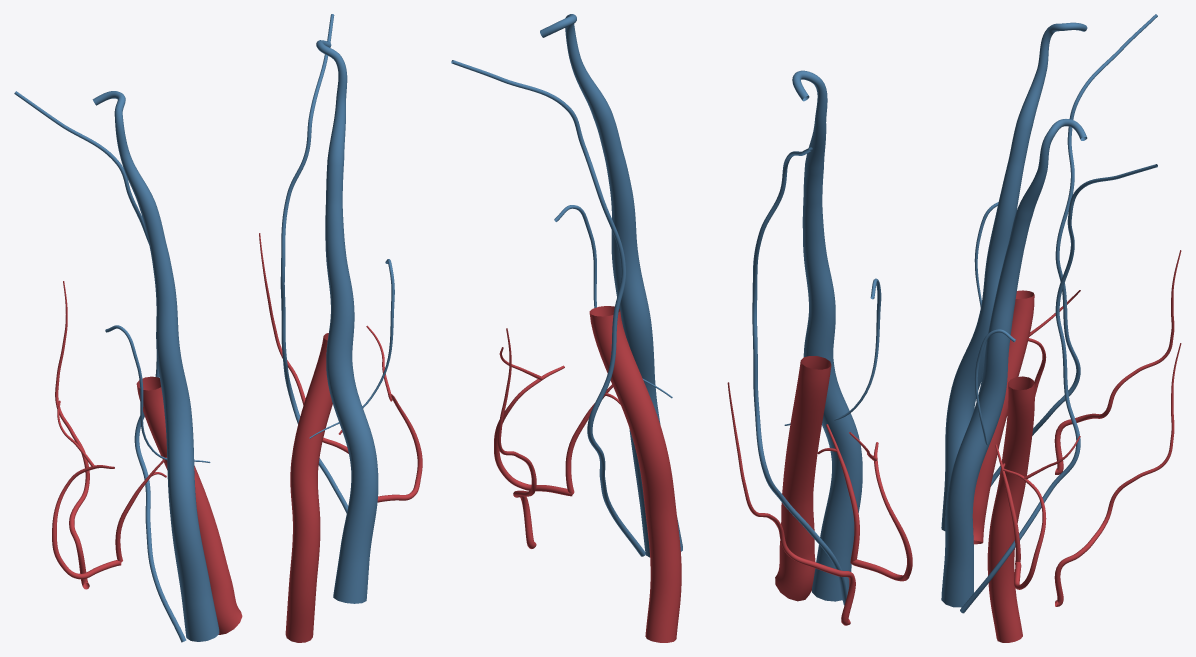
Rendered from detail-circulatory-neck.glb.
3 renders of one model, left to right at view 1: azimuth 30°, elevation 25°; view 2: azimuth 150°, elevation 25°; view 3: azimuth 270°, elevation 25°, orthographic. The views are drawn at different scales.
Parts seen in each view (by area): view 1: za-78b3e35a4bfca581, za-c72c39d42f9e847f, za-fb939154a41782c4, za-c81aa8c7691f2b83, za-bf7f14168e64b9d9, za-009cdefda3da7576, za-318a3d450c23855a, za-d6612946eb582314, za-ed29808062135c0d, za-0526ac5f61237d5b, za-d5ff5e6274919cb4, za-e259bb06450c0f42 (+1 smaller); view 2: za-c72c39d42f9e847f, za-fb939154a41782c4, za-78b3e35a4bfca581, za-c81aa8c7691f2b83, za-bf7f14168e64b9d9, za-009cdefda3da7576, za-318a3d450c23855a, za-0526ac5f61237d5b, za-ed29808062135c0d, za-d6612946eb582314, za-996f0717f2090e4a, za-e259bb06450c0f42 (+1 smaller); view 3: za-78b3e35a4bfca581, za-c72c39d42f9e847f, za-fb939154a41782c4, za-c81aa8c7691f2b83, za-bf7f14168e64b9d9, za-009cdefda3da7576, za-0526ac5f61237d5b, za-318a3d450c23855a, za-ed29808062135c0d, za-48bf39d5253914e2, za-d5ff5e6274919cb4, za-d6612946eb582314 (+1 smaller).
Boxes of the visible parts, <box> form: za-78b3e35a4bfca581: <box>316,40,378,603</box>; za-c72c39d42f9e847f: <box>92,91,219,641</box>; za-fb939154a41782c4: <box>285,333,332,642</box>; za-c81aa8c7691f2b83: <box>136,376,242,634</box>; za-bf7f14168e64b9d9: <box>280,14,348,513</box>; za-009cdefda3da7576: <box>14,91,186,642</box>; za-318a3d450c23855a: <box>55,281,89,589</box>; za-d6612946eb582314: <box>52,400,121,579</box>; za-ed29808062135c0d: <box>366,325,422,502</box>; za-0526ac5f61237d5b: <box>259,233,348,453</box>; za-d5ff5e6274919cb4: <box>309,259,394,438</box>; za-e259bb06450c0f42: <box>105,325,210,462</box>; za-c72c39d42f9e847f: <box>792,70,862,601</box>; za-fb939154a41782c4: <box>589,306,681,642</box>; za-78b3e35a4bfca581: <box>540,14,682,557</box>; za-c81aa8c7691f2b83: <box>775,356,831,601</box>; za-bf7f14168e64b9d9: <box>451,60,645,556</box>; za-009cdefda3da7576: <box>752,147,847,605</box>; za-318a3d450c23855a: <box>727,382,855,625</box>; za-0526ac5f61237d5b: <box>497,328,536,548</box>; za-ed29808062135c0d: <box>494,347,572,496</box>; za-d6612946eb582314: <box>849,432,912,581</box>; za-996f0717f2090e4a: <box>817,424,859,561</box>; za-e259bb06450c0f42: <box>784,278,881,425</box>; za-78b3e35a4bfca581: <box>941,119,1087,607</box>; za-c72c39d42f9e847f: <box>941,22,1087,530</box>; za-fb939154a41782c4: <box>987,376,1034,642</box>; za-c81aa8c7691f2b83: <box>972,290,1034,544</box>; za-bf7f14168e64b9d9: <box>960,164,1157,613</box>; za-009cdefda3da7576: <box>990,14,1157,486</box>; za-0526ac5f61237d5b: <box>1054,343,1181,606</box>; za-318a3d450c23855a: <box>1054,250,1181,474</box>; za-ed29808062135c0d: <box>1003,436,1080,589</box>; za-48bf39d5253914e2: <box>995,444,1020,561</box>; za-d5ff5e6274919cb4: <box>974,329,1015,445</box>; za-d6612946eb582314: <box>1028,290,1080,396</box>.
Size of the model in its own units: 0.1234 by 0.179 by 0.0715.
